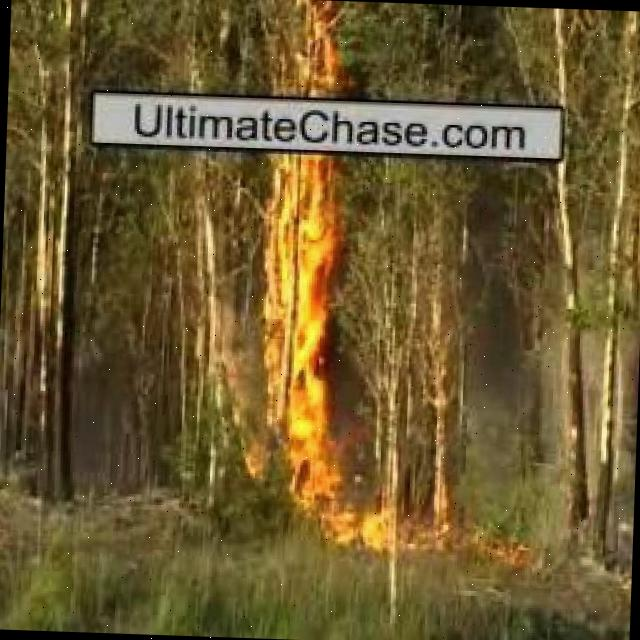fire: (256, 159, 346, 440), (245, 452, 413, 558), (281, 0, 339, 97)
